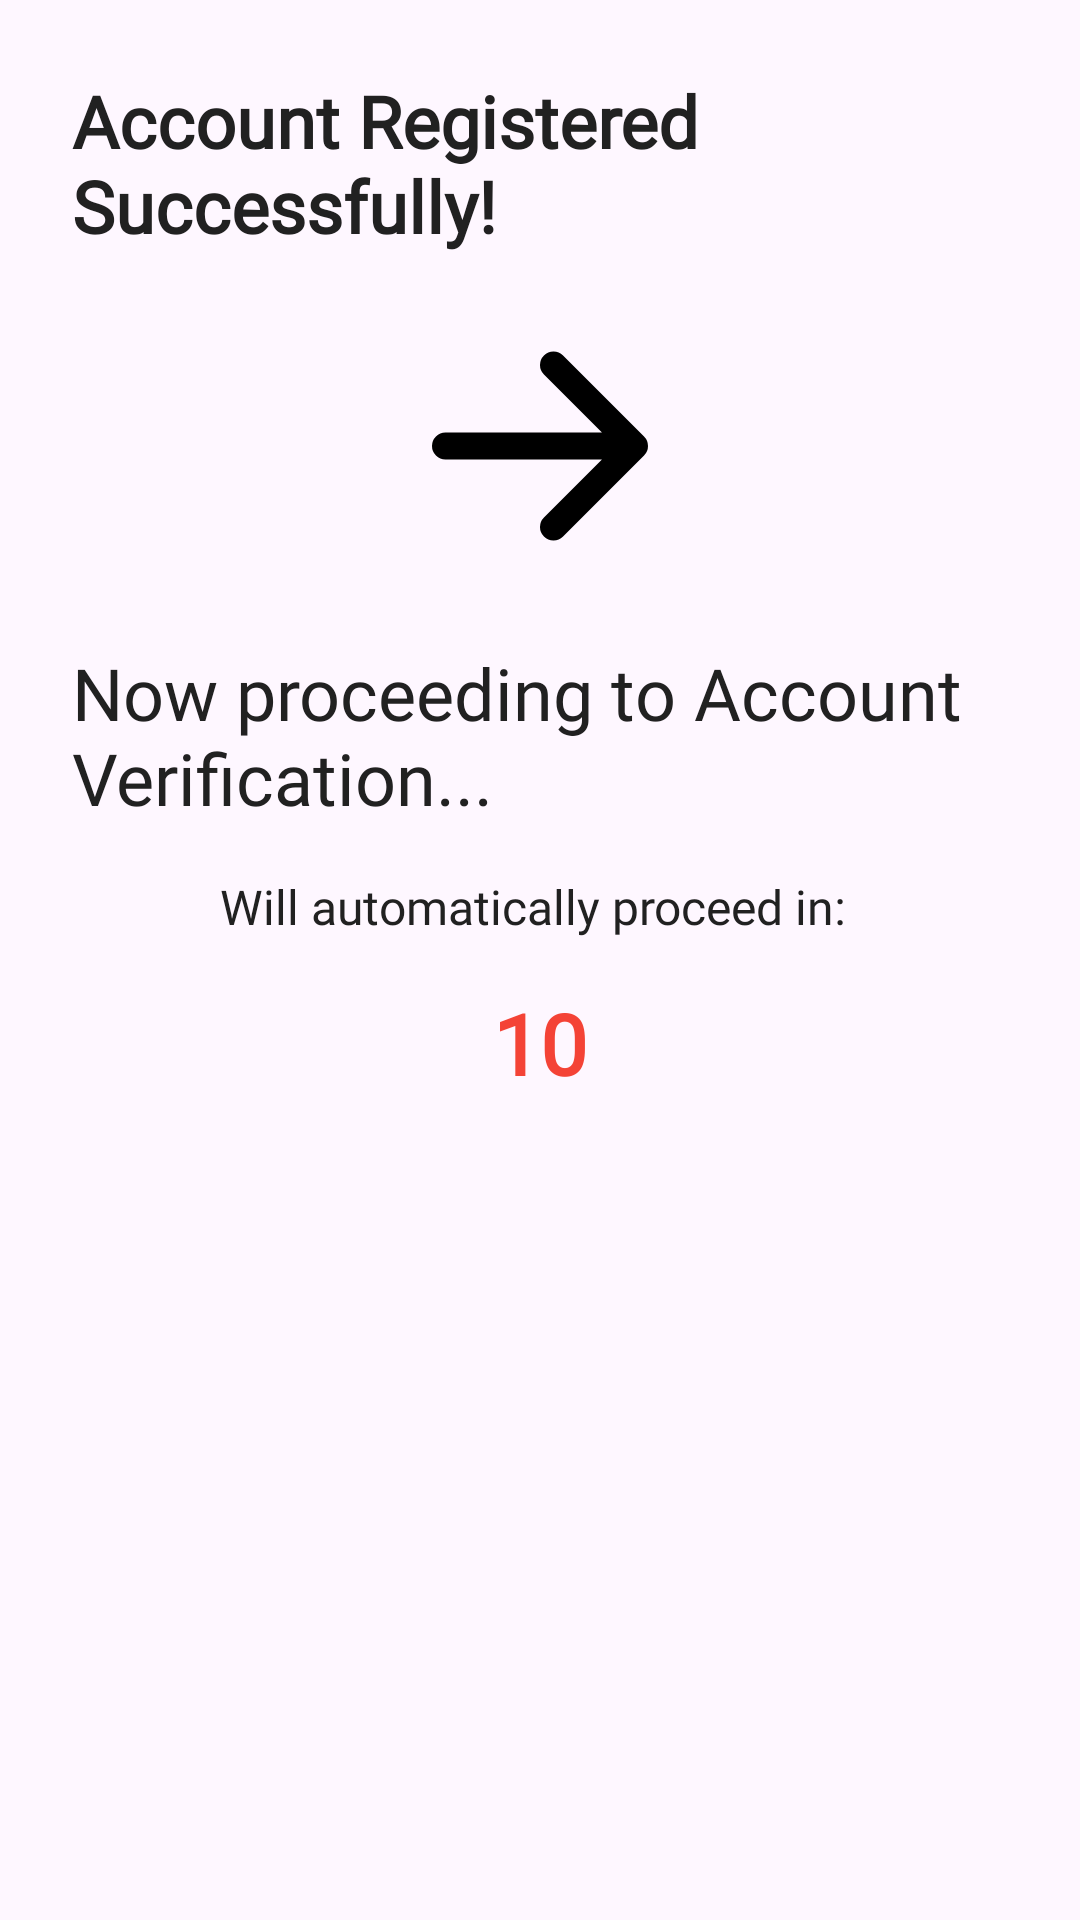

Icon bounding boxes for this 1080w x 1920h phone screenshot, format bbox(x1, y1, x2, y2):
Proceed to verification: bbox(432, 351, 648, 541)
